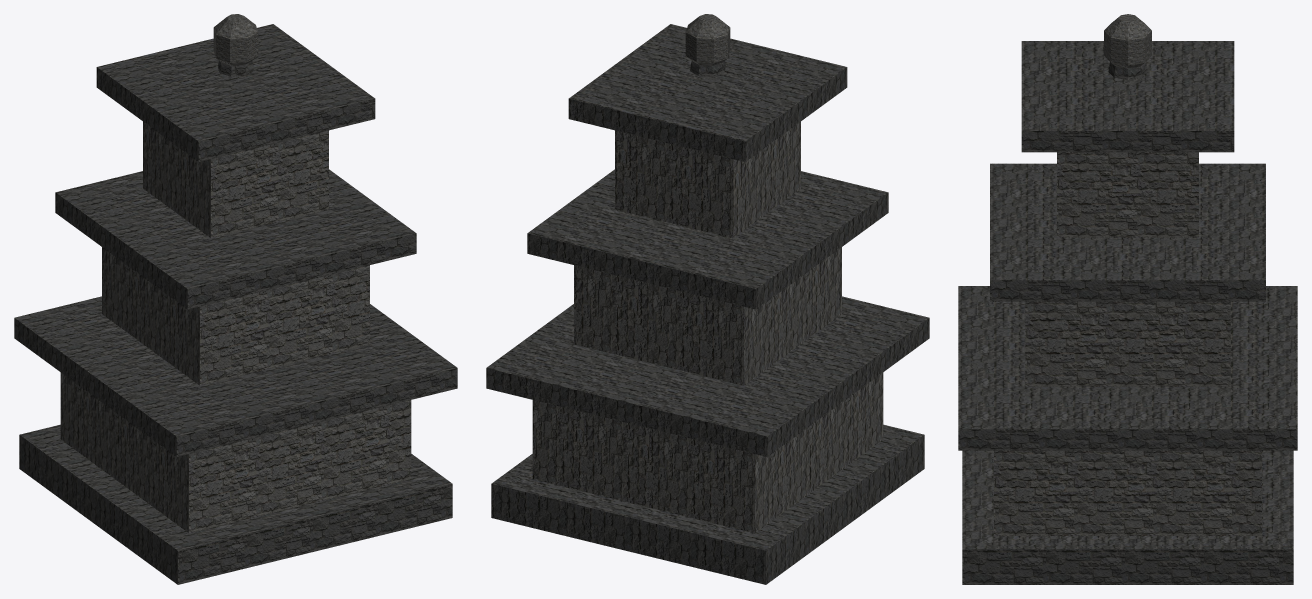
The model's file is stone_pagoda_01.glb.
The picture shows the model from 3 angles, left to right: view 1: azimuth 30°, elevation 25°; view 2: azimuth 150°, elevation 25°; view 3: azimuth 270°, elevation 25°; orthographic projection. The views are drawn at different scales.
Parts seen in each view (by area): view 1: stone_pagoda_01; view 2: stone_pagoda_01; view 3: stone_pagoda_01.
Part boxes in pixels (x1,y1,x2,y2): stone_pagoda_01: (14, 14, 457, 584); stone_pagoda_01: (486, 14, 929, 584); stone_pagoda_01: (958, 14, 1297, 584).
Size of the model in its own units: 4.3 by 6.95 by 4.3.
2 materials, 2 textured.
